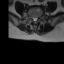CCS_severe_stenosis: (34, 16, 35, 22)
LFS_severe_stenosis: (37, 14, 39, 20)
LLS_normal: (35, 16, 37, 21)
RFS_stenosis: (30, 14, 32, 20)
RLS_normal: (32, 15, 34, 21)
